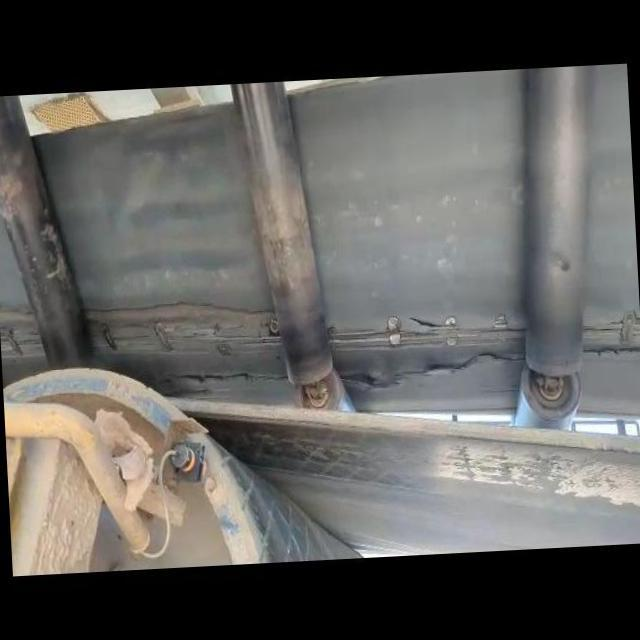Tear: (78, 292, 286, 367), (330, 345, 532, 393), (577, 302, 640, 360), (403, 300, 461, 336)
